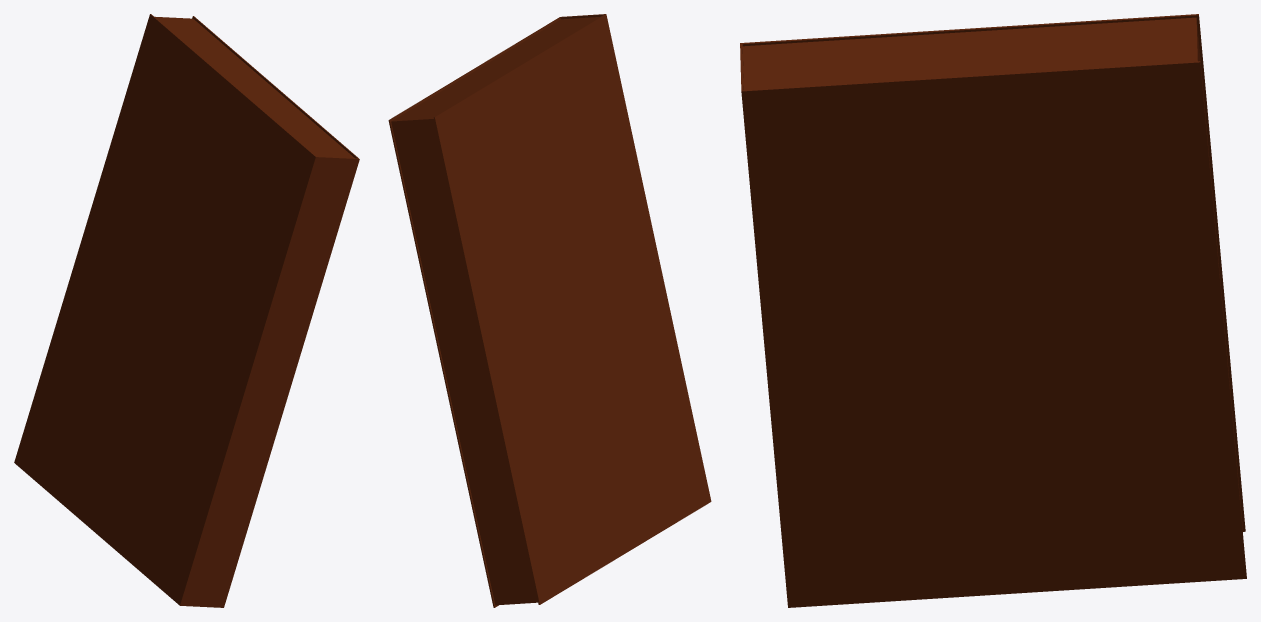
Rendered from Book7.gltf.
3 views of the same model, side by side, from view 1: azimuth 30°, elevation 25°; view 2: azimuth 150°, elevation 25°; view 3: azimuth 270°, elevation 25° (orthographic). The views are drawn at different scales.
Parts seen in each view (by area): view 1: Book7; view 2: Book7; view 3: Book7.
Boxes of the visible parts, x1=… form: Book7: x1=14, y1=14, x2=359, y2=607; Book7: x1=388, y1=14, x2=711, y2=607; Book7: x1=740, y1=14, x2=1246, y2=607.
Bounding box in the file's own units: 0.2219 × 0.6042 × 0.4308.
